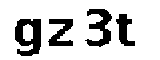3: (78, 6, 114, 50)
g: (9, 14, 44, 60)
t: (115, 12, 141, 51)
z: (43, 16, 78, 51)
